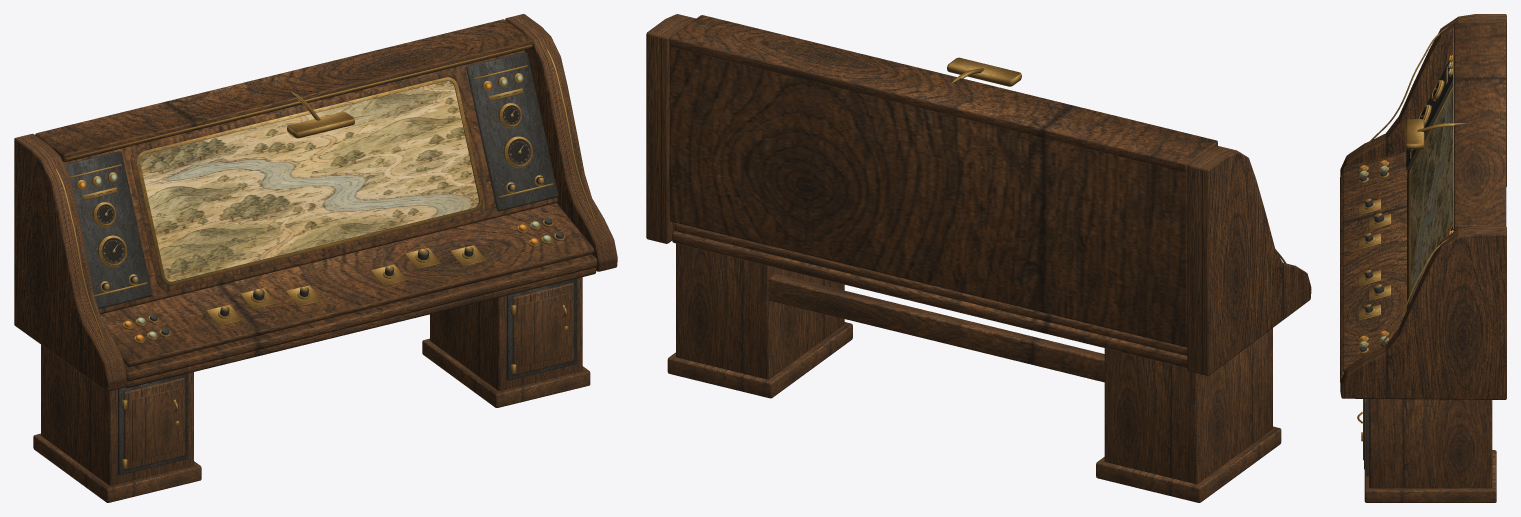
Rendered from SM_MoleControlV2_GrandMapConsole.fbx.
The picture shows the model from 3 angles, left to right: view 1: azimuth 30°, elevation 25°; view 2: azimuth 150°, elevation 25°; view 3: azimuth 270°, elevation 25°; orthographic projection. The views are drawn at different scales.
Visible parts, largest first — view 1: SM_MoleControlV2_GrandMapConsole; view 2: SM_MoleControlV2_GrandMapConsole; view 3: SM_MoleControlV2_GrandMapConsole.
Part boxes in pixels (x1,y1,x2,y2): SM_MoleControlV2_GrandMapConsole: (14,14,617,502); SM_MoleControlV2_GrandMapConsole: (646,14,1311,502); SM_MoleControlV2_GrandMapConsole: (1340,14,1506,502).
Size of what is drawn, in the model's own units: 360 by 115 by 210.
